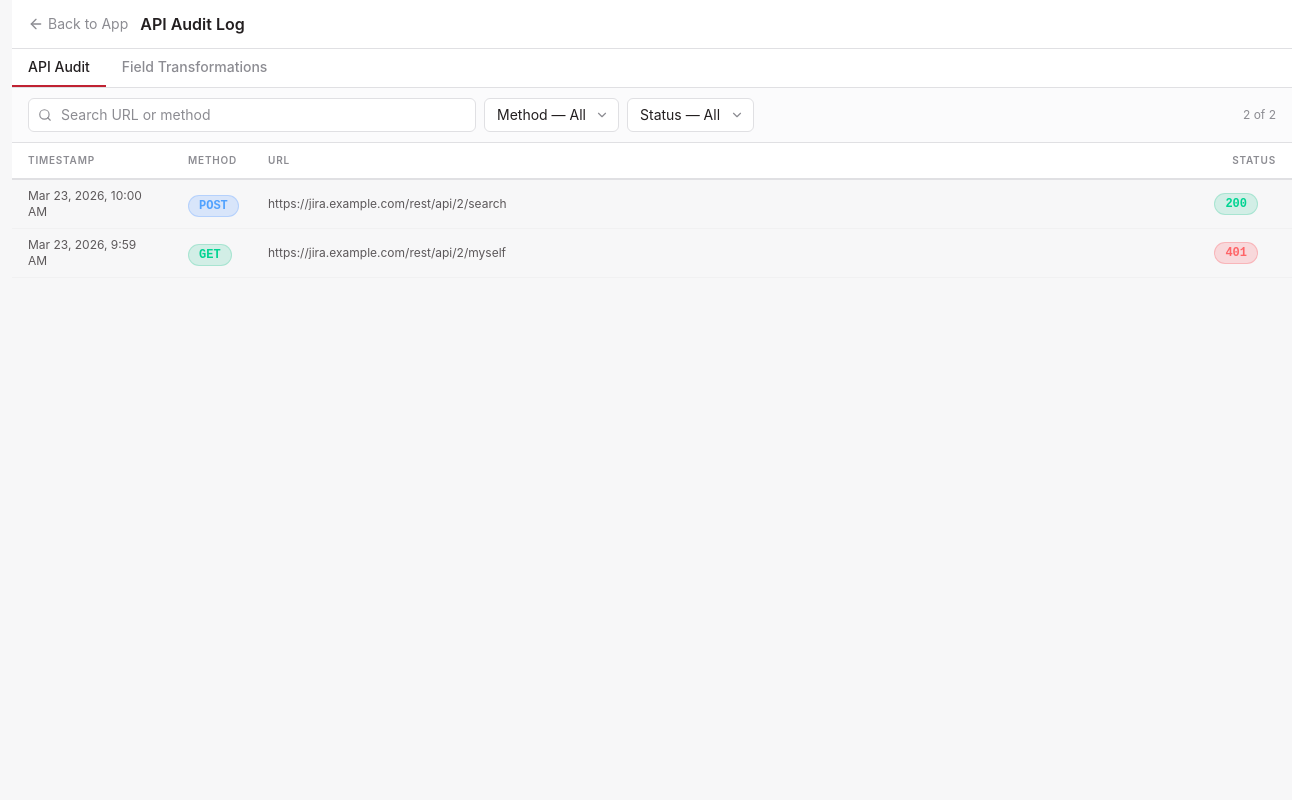
AuditLogPage › Test 3: clicking an expanded row collapses it (expansion toggles)
The width and height of the screenshot is (1292, 800).
Expected: the text "https://jira.example.com/rest/api/2/search" is shown, [252,179,1196,228]
Click the button that starts with "Mar 23, 2026, 10:00 AM" at x=85, y=196, box [12,179,1291,228]
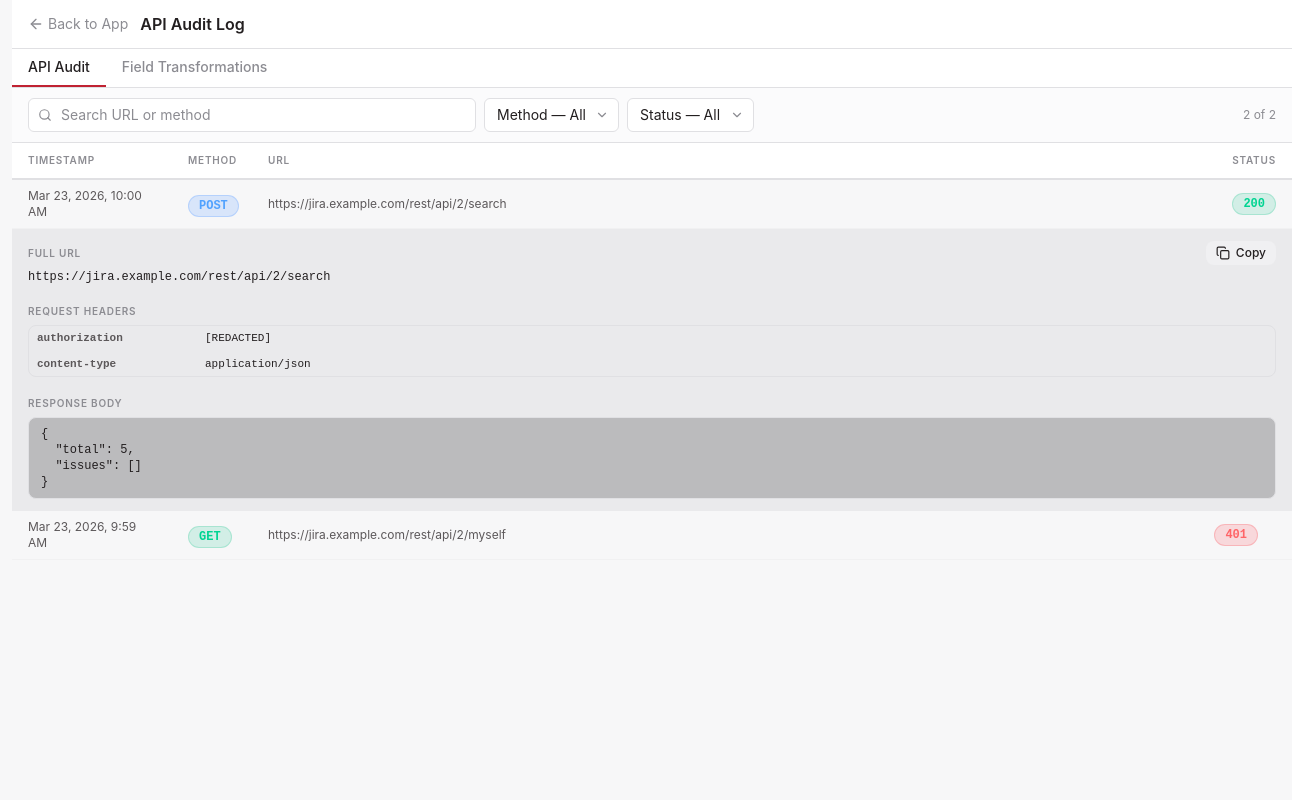
Expected: the text "Request Headers" is shown, [28,305,136,317]
Click the button that starts with "Mar 23, 2026, 10:00 AM" at x=85, y=196, box [12,179,1291,228]
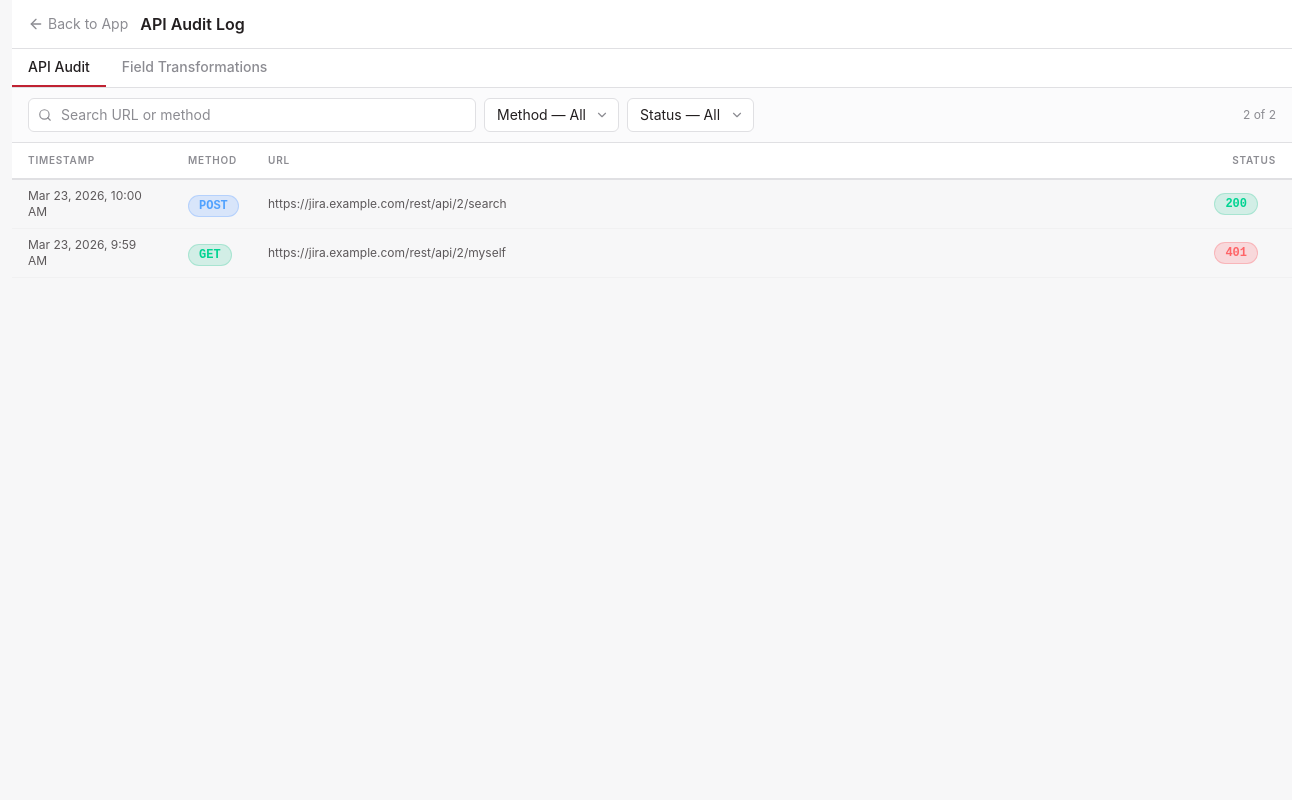
Expected: the text "Request Headers" is gone
